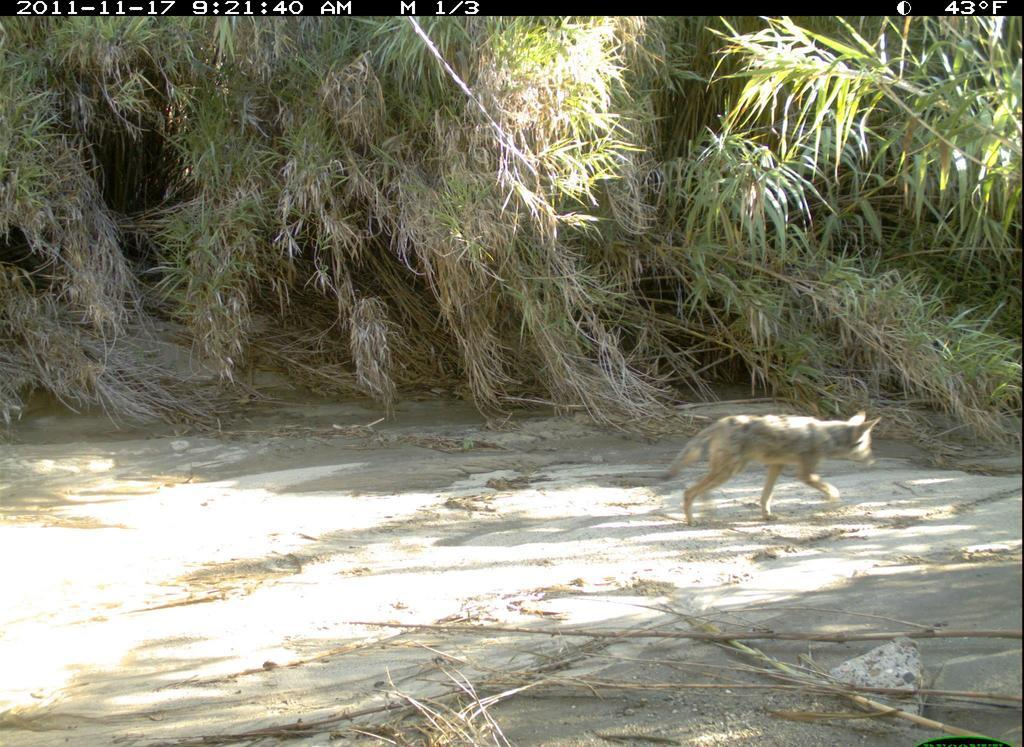coyote: (660, 396, 887, 536)
